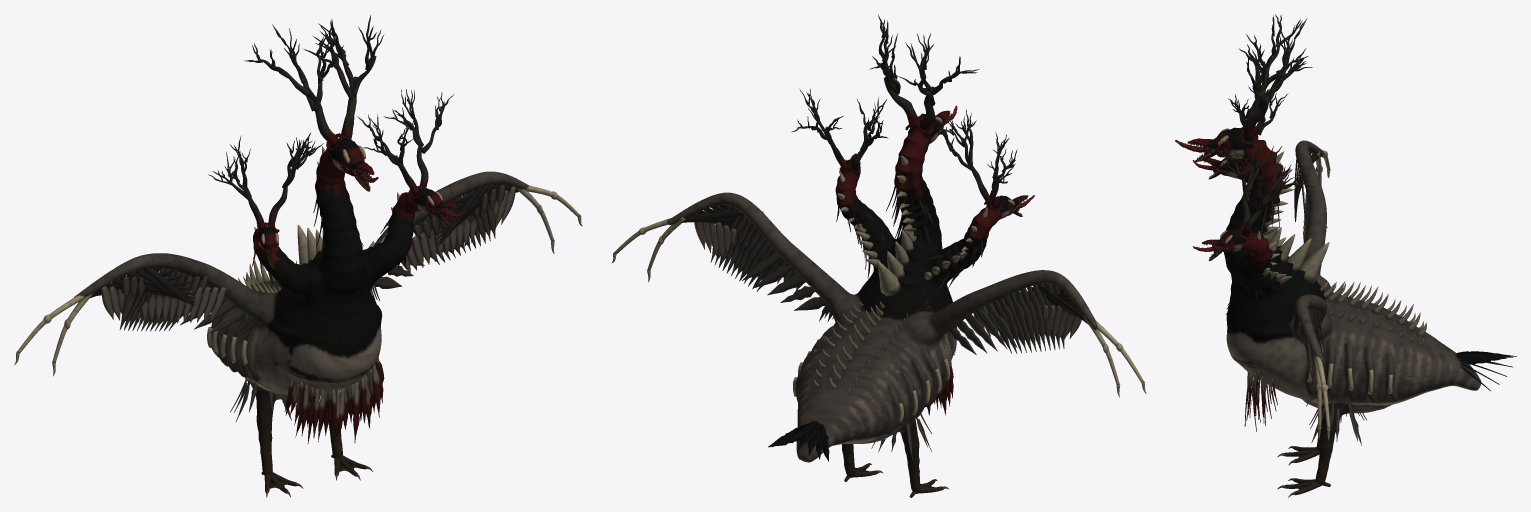
The model's file is goose_v2.glb.
3 renders of one model, left to right at view 1: azimuth 30°, elevation 25°; view 2: azimuth 150°, elevation 25°; view 3: azimuth 270°, elevation 25°, orthographic. The views are drawn at different scales.
Parts seen in each view (by area): view 1: eldritch_goose; view 2: eldritch_goose; view 3: eldritch_goose.
Boxes of the visible parts, left/top/right/bottom form: eldritch_goose: left=14, top=15, right=582, bottom=497; eldritch_goose: left=611, top=14, right=1146, bottom=497; eldritch_goose: left=1175, top=14, right=1516, bottom=497.
Bounding box in the file's own units: 8.5 × 6.75 × 4.67.
1 material, 1 textured.
